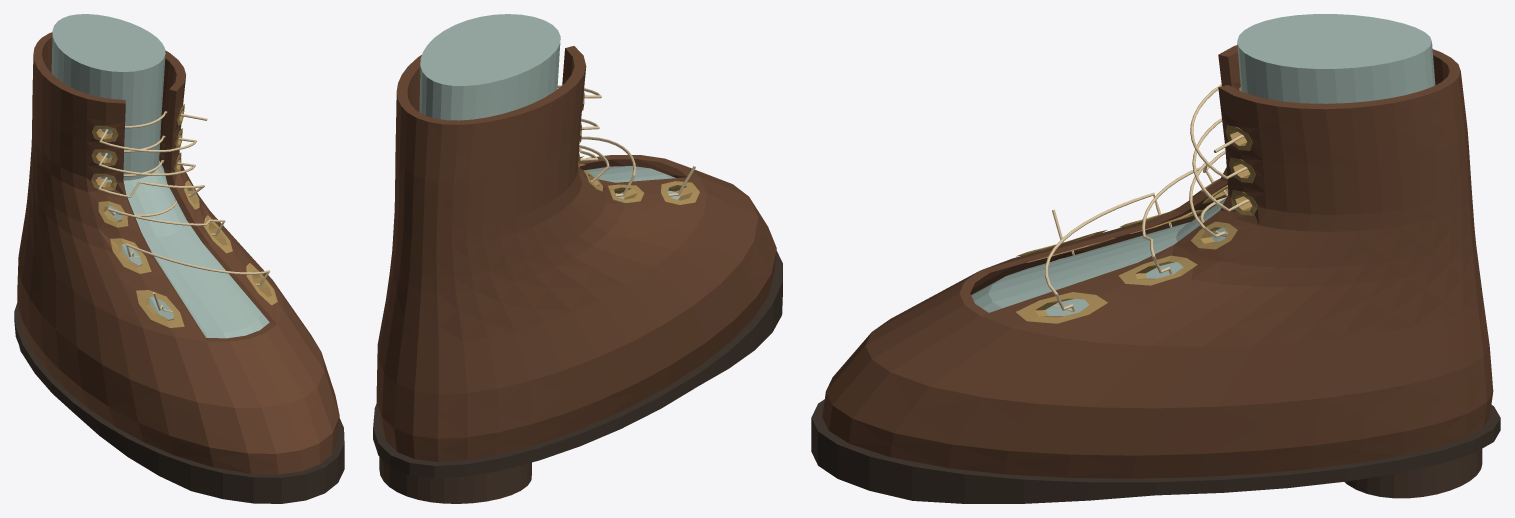
File: boot.obj
3 renders of one model, left to right at view 1: azimuth 30°, elevation 25°; view 2: azimuth 150°, elevation 25°; view 3: azimuth 270°, elevation 25°, orthographic. The views are drawn at different scales.
Parts seen in each view (by area): view 1: new.upper, left.nominal, left.sole, new.lace, new.eyelet.port.6.3, new.eyelet.port.6.4, new.eyelet.port.9.3, new.eyelet.port.6.5, new.eyelet.port.9.4; view 2: new.upper, left.nominal, left.sole, left.heel, new.lace, new.eyelet.port.6.3, new.eyelet.port.6.4; view 3: new.upper, left.nominal, left.sole, new.lace, left.heel, new.eyelet.port.9.3, new.eyelet.port.9.4.
Boxes of the visible parts, x1,y1,x2,y2 form: new.upper: (17, 32, 339, 474); left.nominal: (51, 14, 269, 338); left.sole: (14, 303, 344, 503); new.lace: (98, 111, 270, 312); new.eyelet.port.6.3: (136, 290, 184, 327); new.eyelet.port.6.4: (110, 238, 151, 273); new.eyelet.port.9.3: (246, 263, 277, 305); new.eyelet.port.6.5: (98, 201, 128, 227); new.eyelet.port.9.4: (204, 215, 232, 253); new.upper: (376, 46, 776, 461); left.nominal: (419, 14, 679, 199); left.sole: (373, 251, 782, 478); left.heel: (379, 457, 531, 503); new.lace: (557, 85, 695, 196); new.eyelet.port.6.3: (661, 181, 699, 205); new.eyelet.port.6.4: (608, 184, 643, 203); new.upper: (822, 45, 1493, 478); left.nominal: (971, 14, 1435, 315); left.sole: (811, 399, 1500, 503); new.lace: (1045, 84, 1249, 311); left.heel: (1344, 449, 1482, 498); new.eyelet.port.9.3: (1016, 292, 1107, 323); new.eyelet.port.9.4: (1118, 255, 1197, 285).
Bounding box in the file's own units: 0.85 × 1.29 × 1.91.
